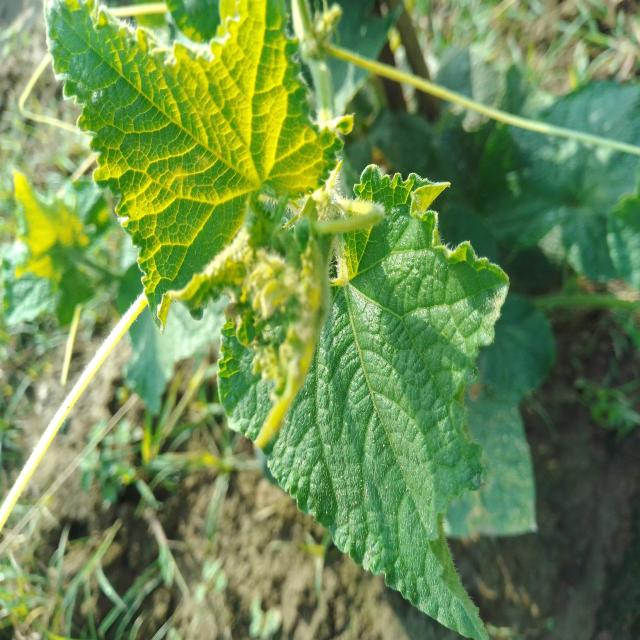cucumber_healthy: (212, 161, 513, 640), (36, 0, 357, 335), (448, 290, 560, 552)
